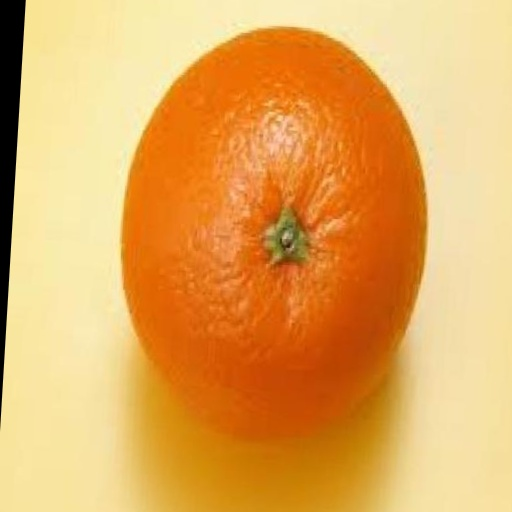fruit: (122, 29, 426, 437)
